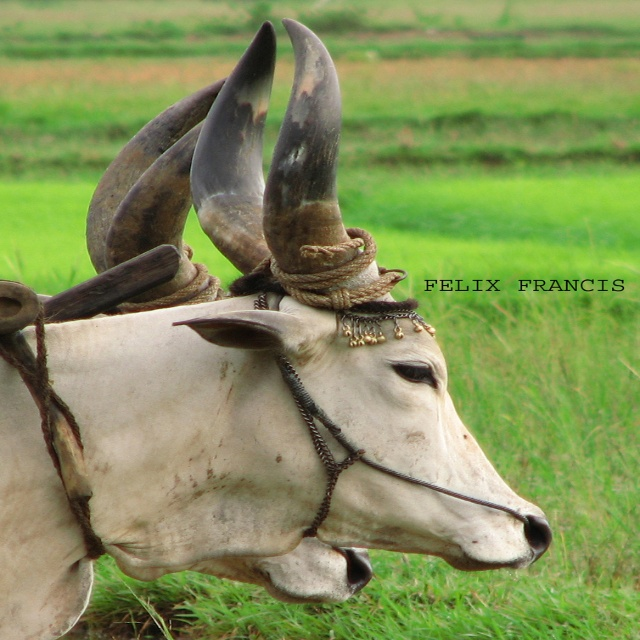Cattle: (0, 19, 554, 640)
